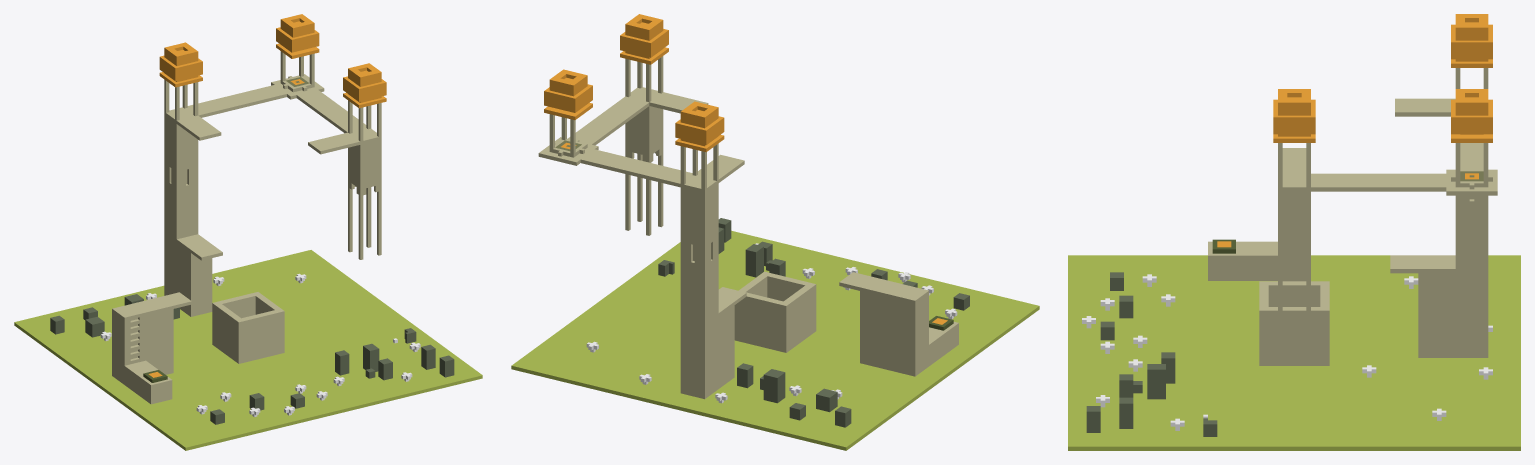
Rendered from monu9-nopillarnoz.obj.
The picture shows the model from 3 angles, left to right: view 1: azimuth 30°, elevation 25°; view 2: azimuth 150°, elevation 25°; view 3: azimuth 270°, elevation 25°; orthographic projection. The views are drawn at different scales.
Size of the model in its own units: 97 by 79 by 97.
1 material, 1 textured.
